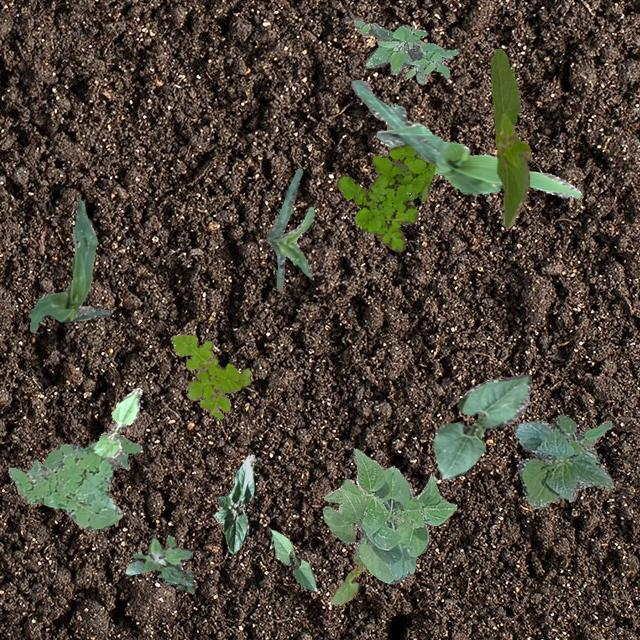crop: (350, 78, 580, 198), (322, 448, 456, 582), (29, 196, 110, 332), (432, 373, 530, 478), (512, 413, 612, 508), (489, 48, 532, 228), (266, 168, 312, 288), (212, 453, 255, 552), (92, 387, 140, 458), (268, 528, 316, 592), (330, 550, 370, 606)
weed: (336, 144, 434, 250), (8, 448, 122, 528), (352, 17, 458, 82), (170, 334, 250, 418), (124, 534, 194, 592), (41, 434, 140, 468)
